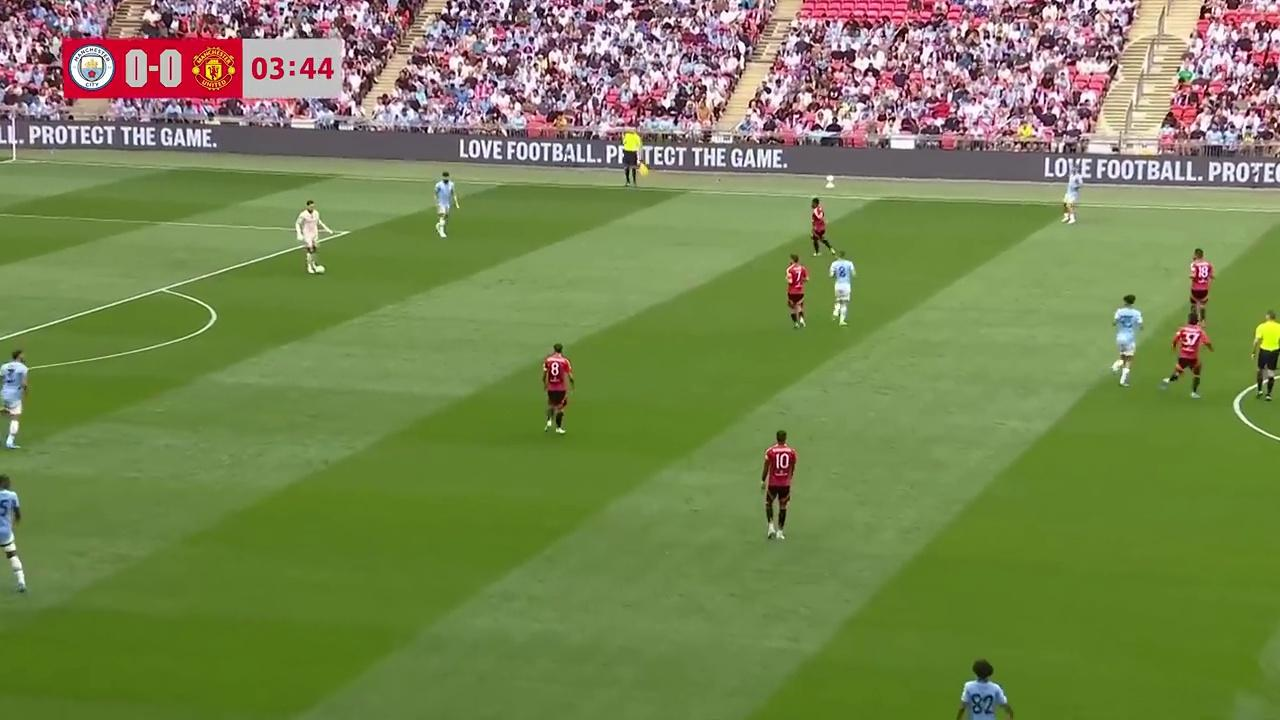ball: (312, 260, 326, 274)
player: (1159, 316, 1214, 399), (761, 429, 797, 541), (957, 654, 1013, 720), (0, 474, 27, 594), (541, 343, 573, 434), (1112, 294, 1143, 385), (0, 348, 28, 448), (294, 201, 324, 274), (829, 250, 855, 326), (1188, 248, 1214, 322), (785, 254, 809, 329), (433, 171, 459, 238), (1059, 161, 1081, 224), (810, 197, 833, 256)
referee: (1251, 310, 1280, 397), (622, 132, 645, 188)
